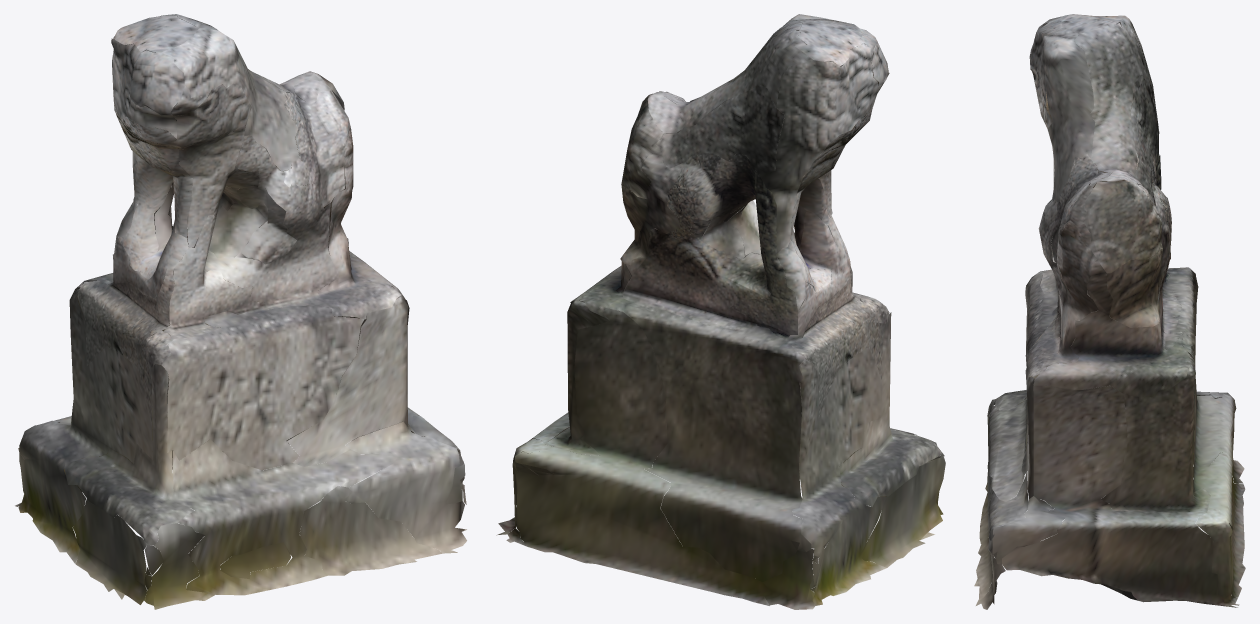
The model's file is Komainu_A.fbx.
The picture shows the model from 3 angles, left to right: view 1: azimuth 30°, elevation 25°; view 2: azimuth 150°, elevation 25°; view 3: azimuth 270°, elevation 25°; orthographic projection. The views are drawn at different scales.
Parts seen in each view (by area): view 1: Komainu_A; view 2: Komainu_A; view 3: Komainu_A.
Part boxes in pixels (x1,y1,x2,y2): Komainu_A: [15, 14, 466, 609]; Komainu_A: [496, 14, 945, 609]; Komainu_A: [974, 14, 1245, 609].
Size of the model in its own units: 89.05 by 133 by 67.27.
1 material, 1 textured.
